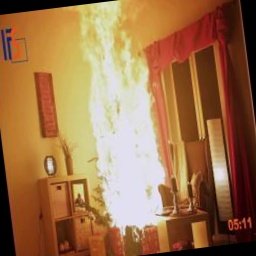fire: (62, 0, 196, 239)
